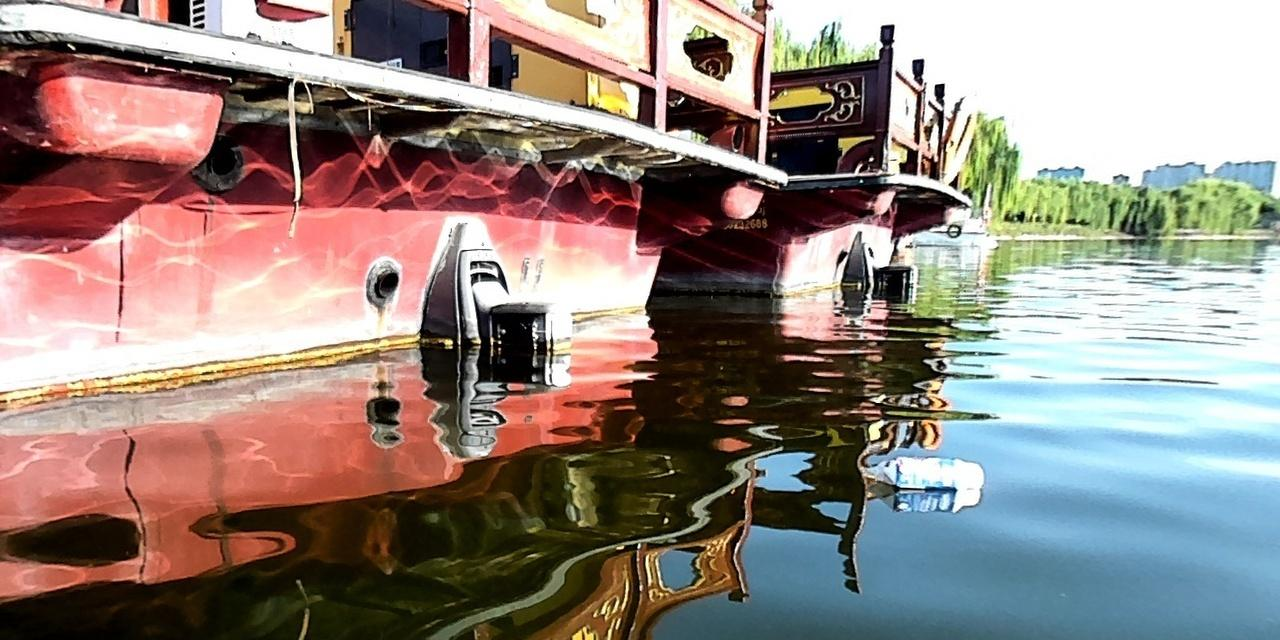bottle: (861, 449, 984, 492)
